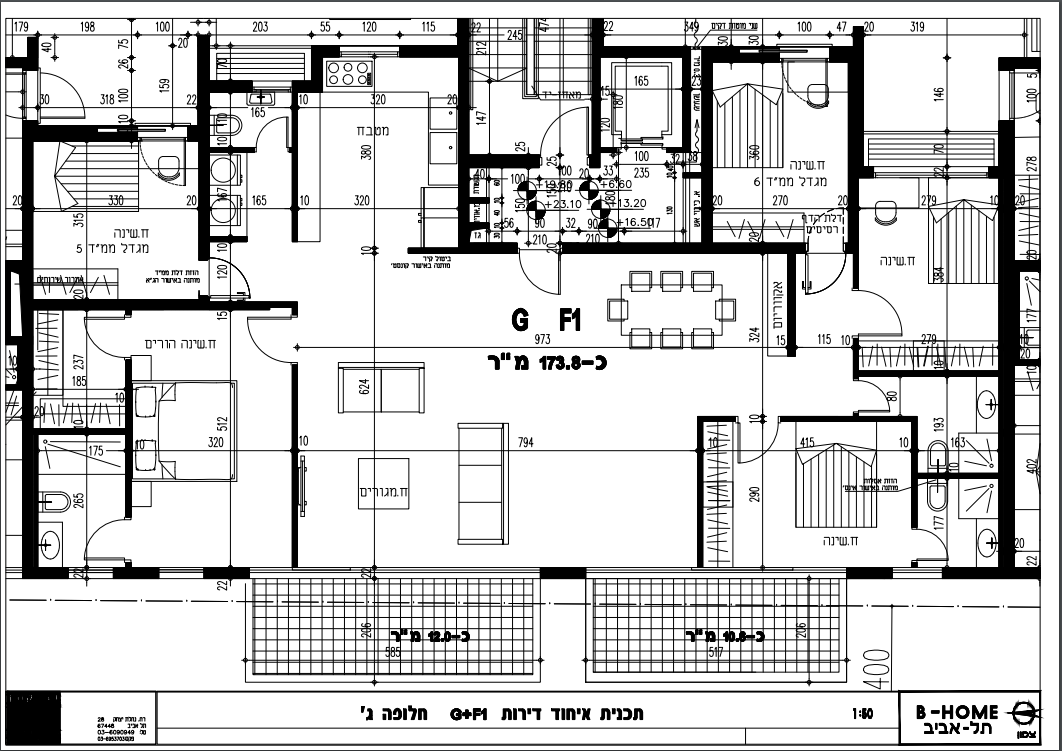door: (515, 251, 571, 299), (45, 66, 91, 122), (242, 313, 286, 371), (864, 288, 910, 338), (541, 104, 589, 151), (80, 516, 123, 563), (801, 260, 846, 303), (736, 429, 781, 469), (76, 316, 116, 358), (217, 255, 254, 299), (863, 377, 896, 415), (253, 115, 290, 144), (920, 527, 950, 562)
wall: (998, 129, 1013, 561), (24, 127, 32, 568), (198, 39, 210, 244), (460, 22, 470, 248), (571, 245, 783, 254), (702, 51, 712, 236), (28, 299, 214, 308), (849, 52, 862, 177), (460, 156, 534, 167), (25, 126, 88, 136), (206, 567, 248, 578), (544, 569, 584, 578), (313, 48, 321, 91), (117, 570, 154, 579)
window: (874, 165, 990, 178), (340, 44, 399, 61), (892, 566, 943, 583)
